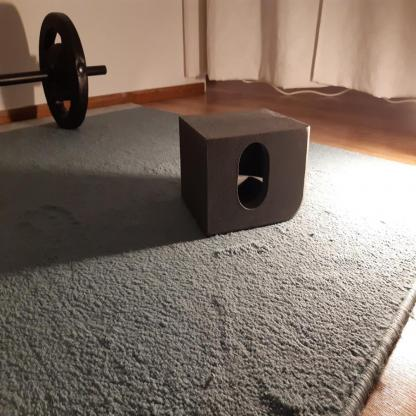CornerCasting: (176, 105, 322, 230)
